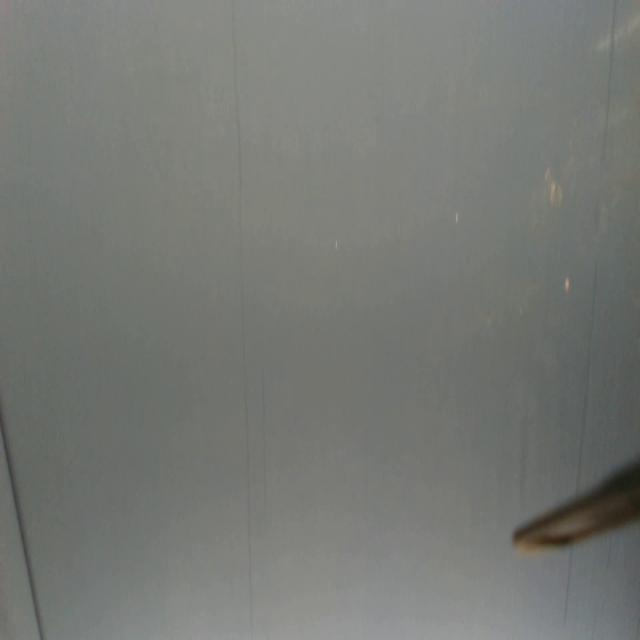crease: (230, 0, 255, 639), (0, 412, 44, 640), (575, 258, 601, 490), (601, 0, 619, 170)
hole: (563, 275, 572, 293), (452, 210, 461, 227), (332, 236, 340, 252)
